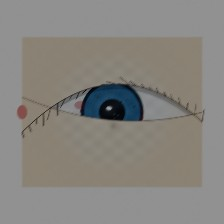hemorrhage_spot: (69, 78, 152, 144)
